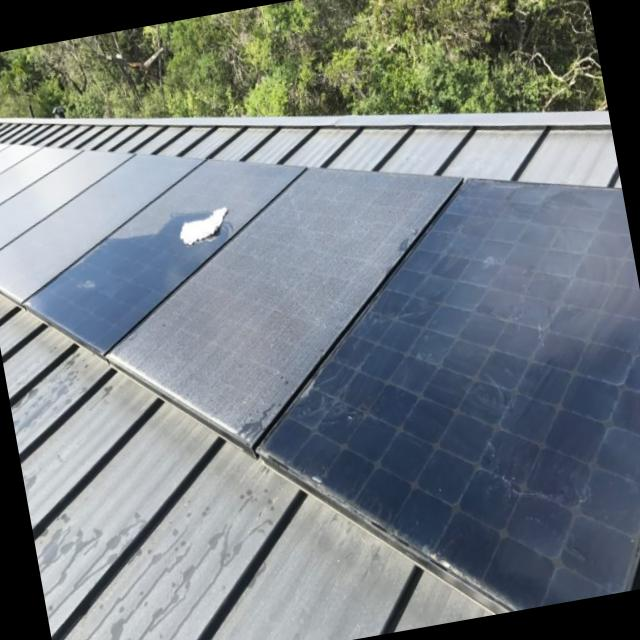faulty: (254, 177, 640, 609), (107, 167, 464, 447), (24, 162, 305, 358), (0, 152, 198, 299)
